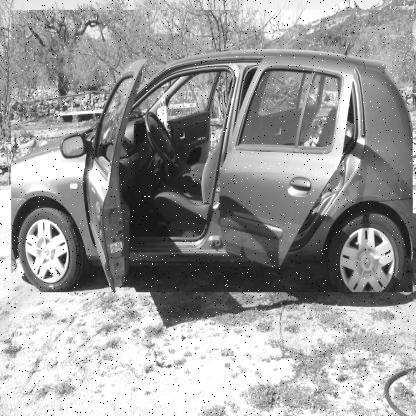Car: (11, 10, 413, 293)
